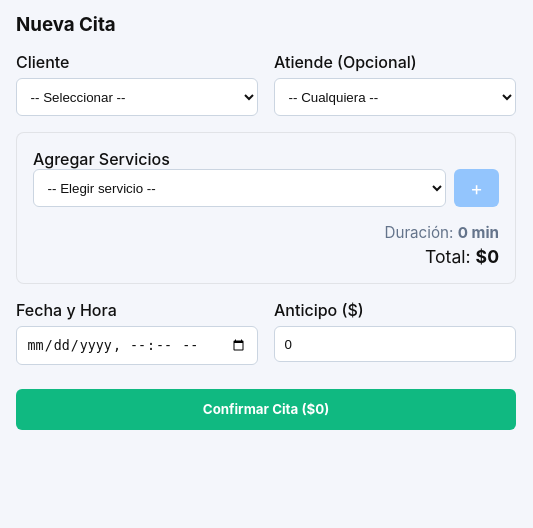
AppointmentForm Component (Sprint 3 Update) › Bloquea el envío si el anticipo es mayor al total del servicio
Select "Masaje ($500)" in the dropdown labelled "Agregar Servicios" at {"x": 240, "y": 188}, box [33,169,446,208]
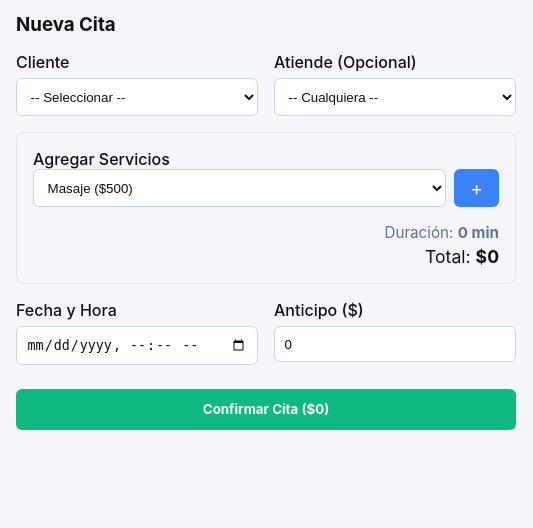
Click the button "+".
click(477, 188)  # box [454,169,499,208]
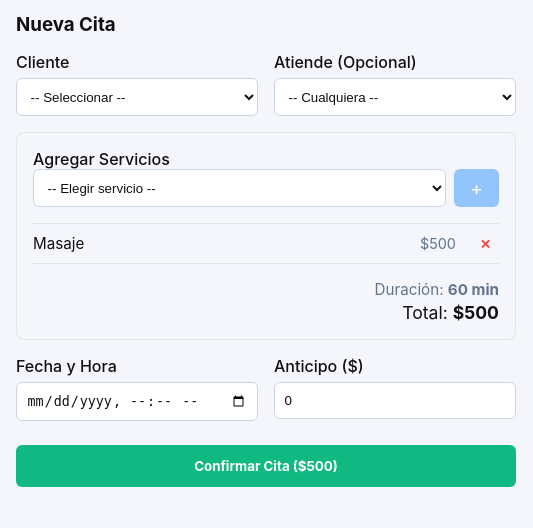
// Intentar poner un anticipo de $600 (Inválido)
Replace the text in the number field labelled "Anticipo ($)" with "600" at {"x": 395, "y": 400}, box [274,382,516,419]
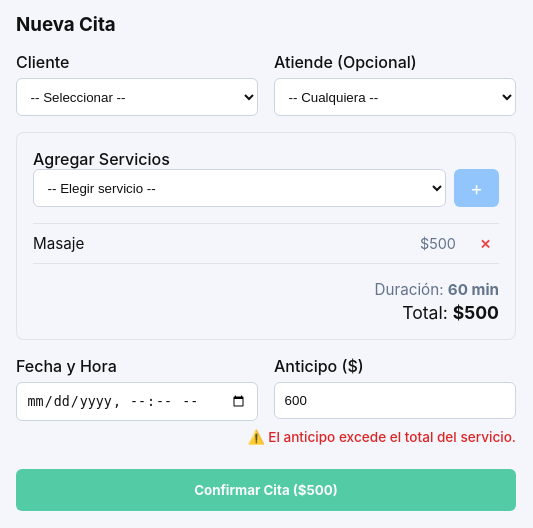
Result: the text "⚠️ El anticipo excede el total del servicio." is shown at [248,429,516,445]
Result: the button "Confirmar Cita ($500)" is disabled at [16,469,516,511]
